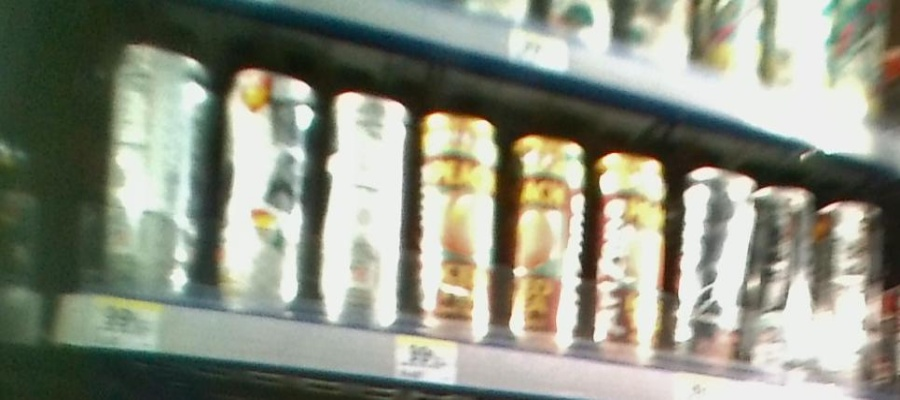bottle: (94, 27, 215, 311), (219, 44, 318, 318), (324, 79, 413, 340), (418, 94, 501, 347), (506, 114, 590, 363), (674, 154, 754, 373), (597, 141, 672, 365), (820, 182, 883, 384), (757, 171, 817, 379)
